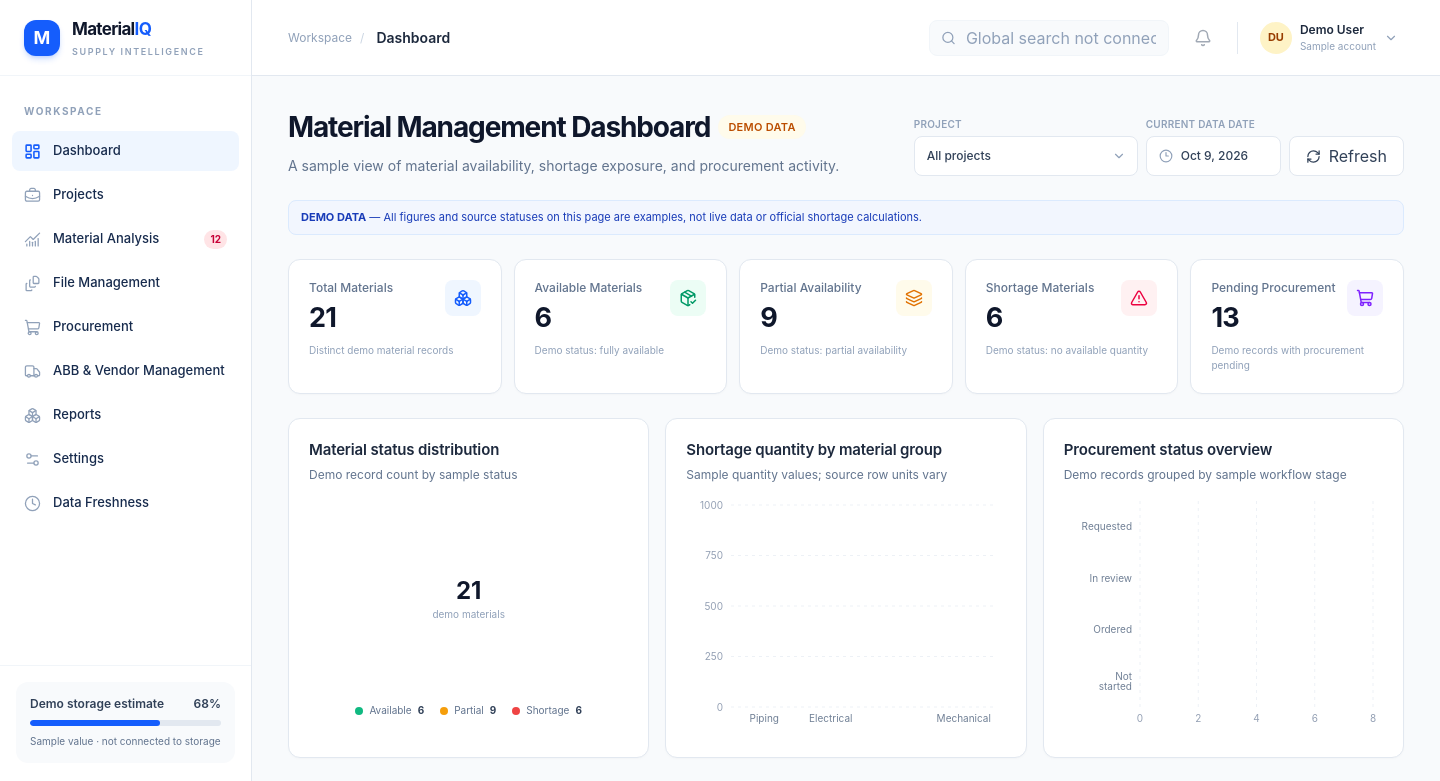
Test: MaterialIQ application › shows an explicit demo message when refreshed
Click the button with aria-label "Refresh demo dashboard".
click(1346, 156)  # box [1289,136,1404,176]
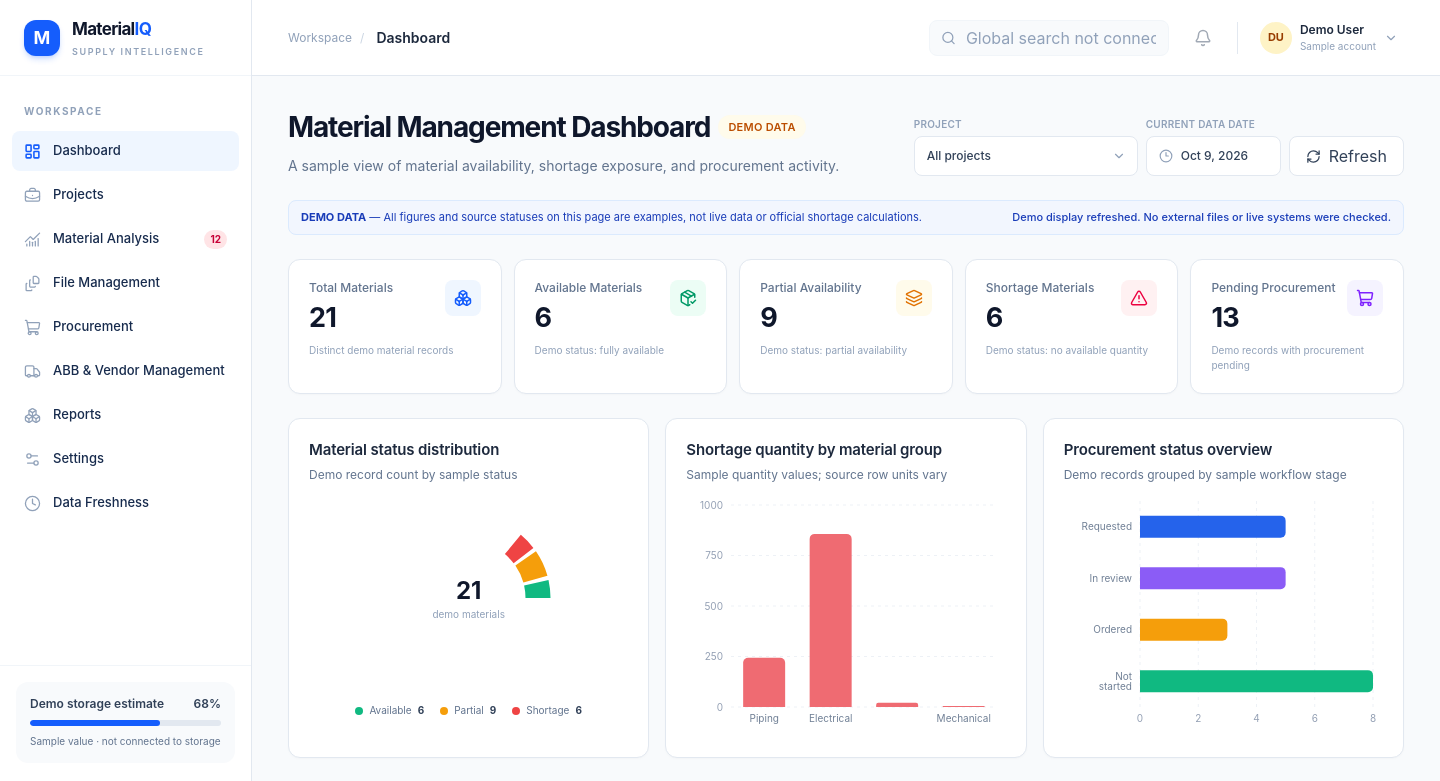
Now the message shows "No external files or live systems were checked", box [1012,210,1391,224]
